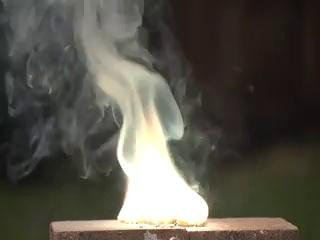Fire: (108, 67, 207, 224)
